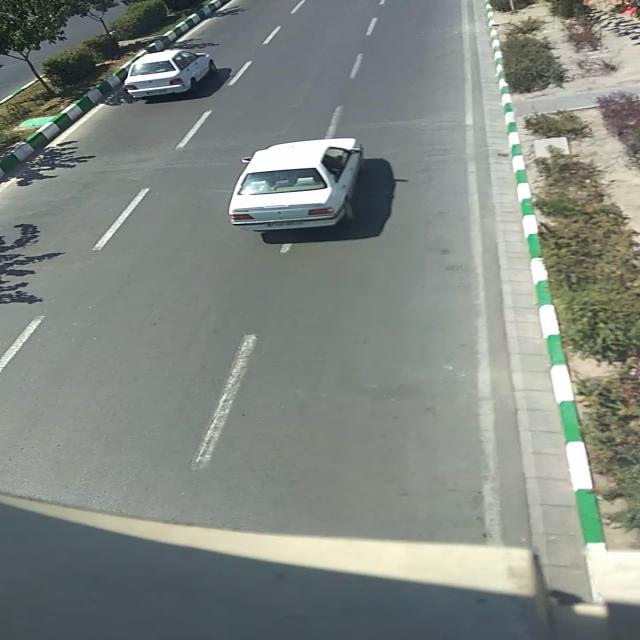car: (227, 136, 361, 232), (124, 47, 215, 101)
